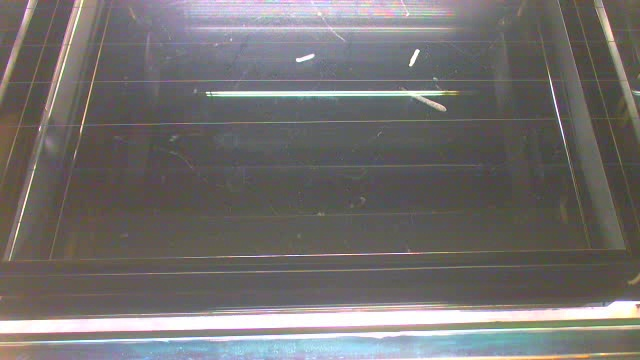Alfa: (399, 85, 449, 112), (408, 44, 422, 70), (294, 49, 315, 65)
